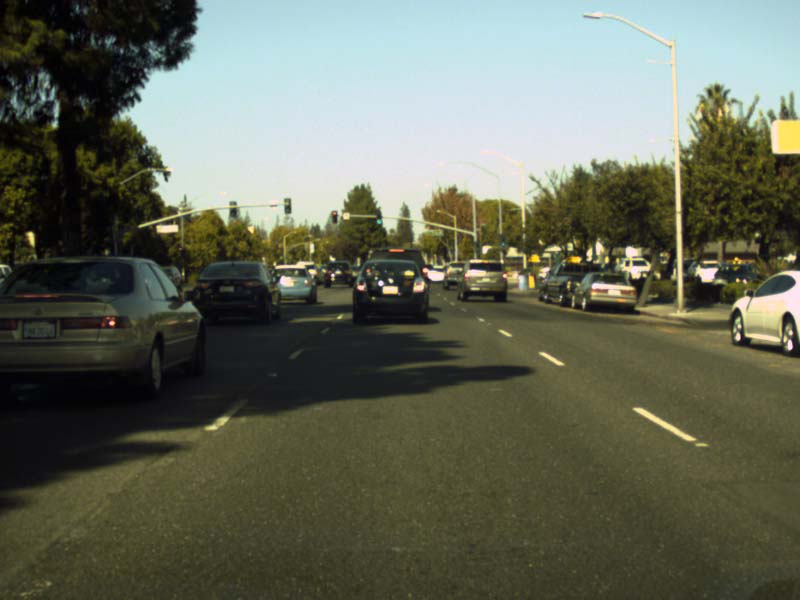Green: (375, 212, 381, 225), (501, 234, 506, 246), (475, 240, 480, 252)
Red: (331, 209, 337, 222)
